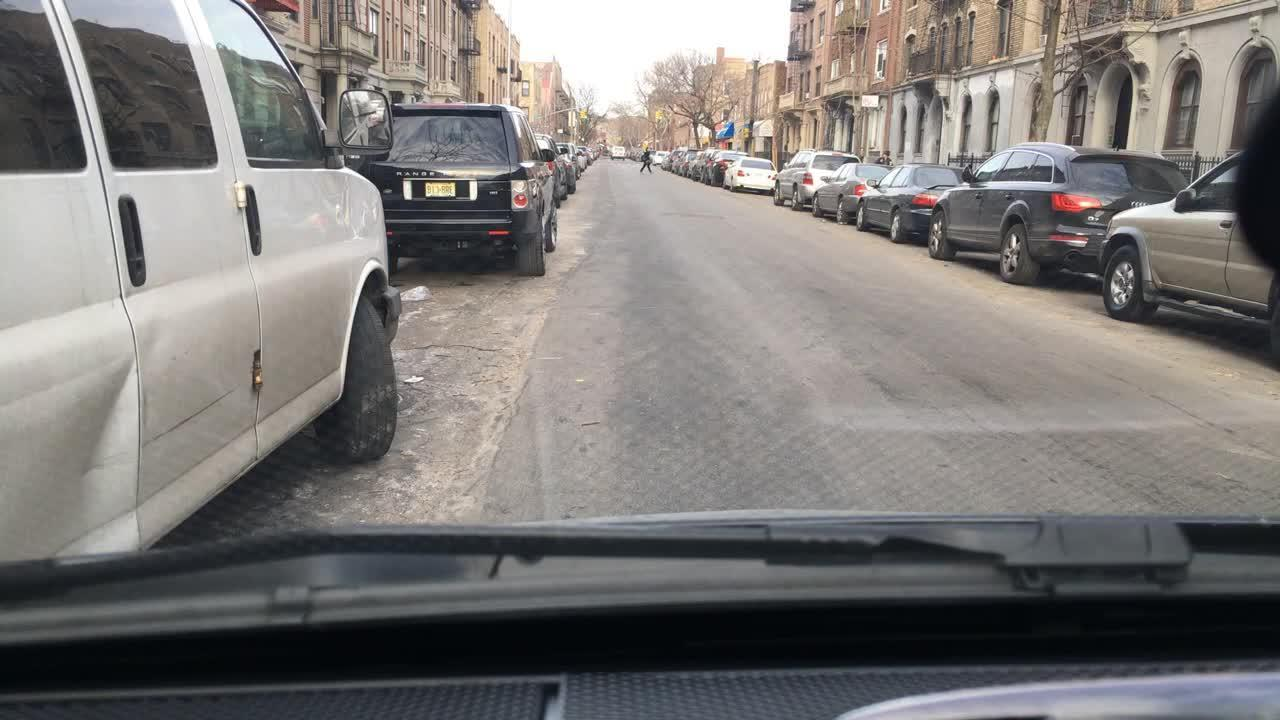range rover: (395, 167, 482, 179)
